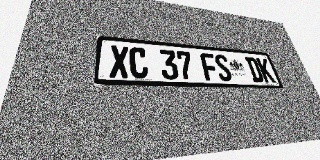3: (159, 49, 179, 80)
7: (175, 51, 195, 80)
C: (129, 47, 149, 79)
D: (245, 57, 265, 82)
F: (200, 53, 220, 81)
K: (256, 58, 276, 83)
S: (213, 54, 233, 81)
X: (109, 45, 129, 78)
